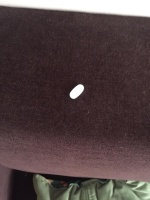Centik Buskopan: (68, 84, 85, 100)
